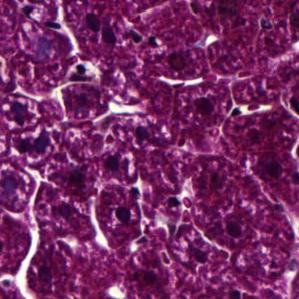inflammation: (90, 177, 147, 253), (59, 58, 102, 88)
